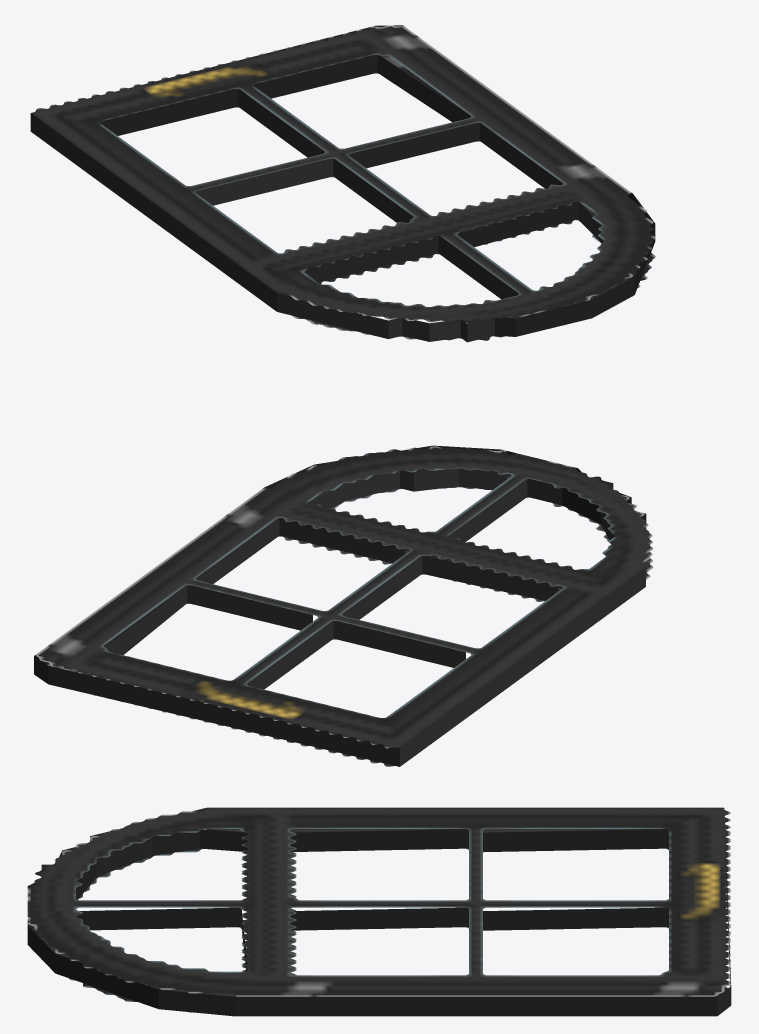
The model's file is pz_native_fixtures_windows_metal_19_frame.obj.
3 renders of one model, top to bottom at view 1: azimuth 30°, elevation 25°; view 2: azimuth 150°, elevation 25°; view 3: azimuth 270°, elevation 25°, orthographic. The views are drawn at different scales.
Visible parts, largest first — view 1: pz_native_fixtures_windows_metal_19_frame; view 2: pz_native_fixtures_windows_metal_19_frame; view 3: pz_native_fixtures_windows_metal_19_frame.
Boxes of the visible parts, x1=… form: pz_native_fixtures_windows_metal_19_frame: x1=30, y1=25, x2=655, y2=342; pz_native_fixtures_windows_metal_19_frame: x1=34, y1=445, x2=653, y2=766; pz_native_fixtures_windows_metal_19_frame: x1=27, y1=807, x2=731, y2=1016.
Size of the model in its own units: 0.8594 by 0.04 by 1.35.
Materials: 1 (1 with a texture image).
